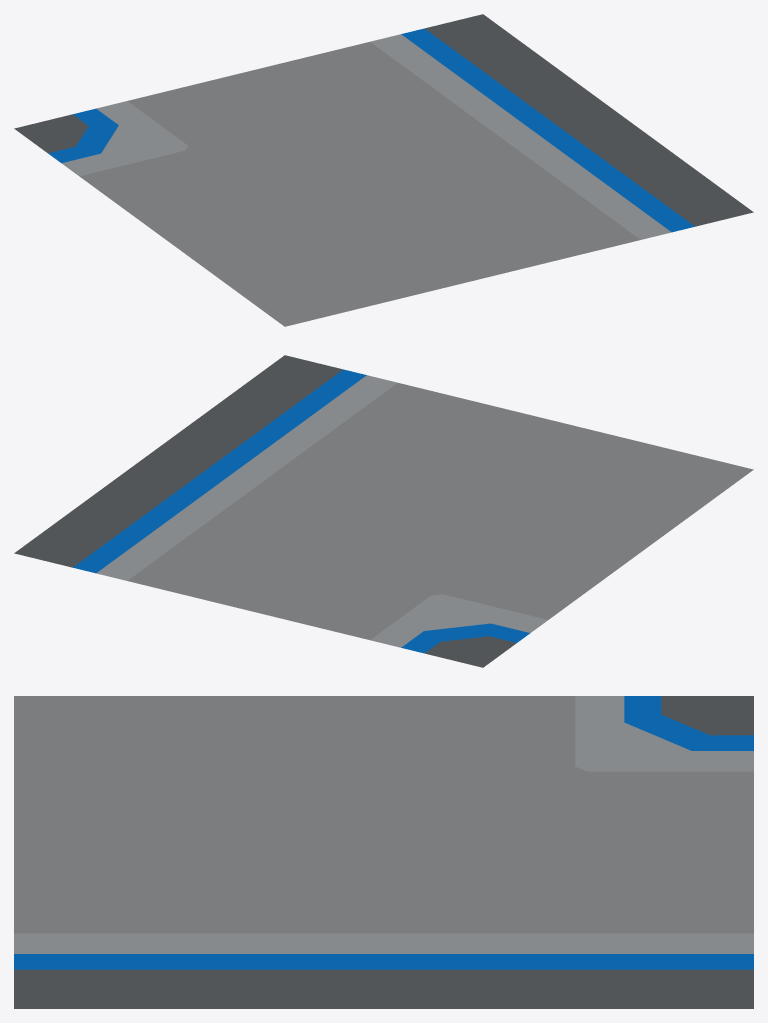
Rendered from Ceiling_type_B_052.011.fbx.
3 views of the same model, one above another, from view 1: azimuth 30°, elevation 25°; view 2: azimuth 150°, elevation 25°; view 3: azimuth 270°, elevation 25° (orthographic). The views are drawn at different scales.
Visible parts, largest first — view 1: Ceiling_type_B_052.011; view 2: Ceiling_type_B_052.011; view 3: Ceiling_type_B_052.011.
Boxes of the visible parts, x1,y1,x2,y2 form: Ceiling_type_B_052.011: (14,14,753,326); Ceiling_type_B_052.011: (14,355,753,667); Ceiling_type_B_052.011: (14,696,753,1008).
Size of the model in its own units: 400 by 400 by 3.5.
